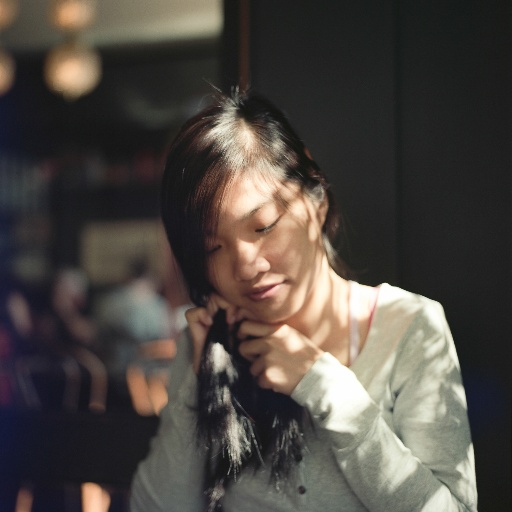hand: (236, 302, 345, 422), (182, 294, 236, 378)
